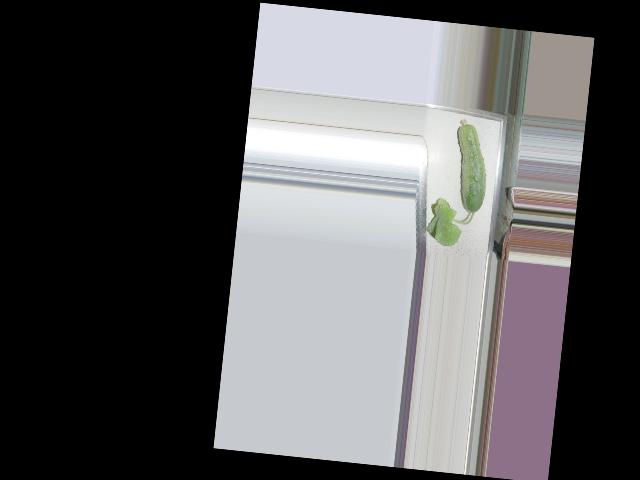cucumber: (449, 118, 492, 214)
